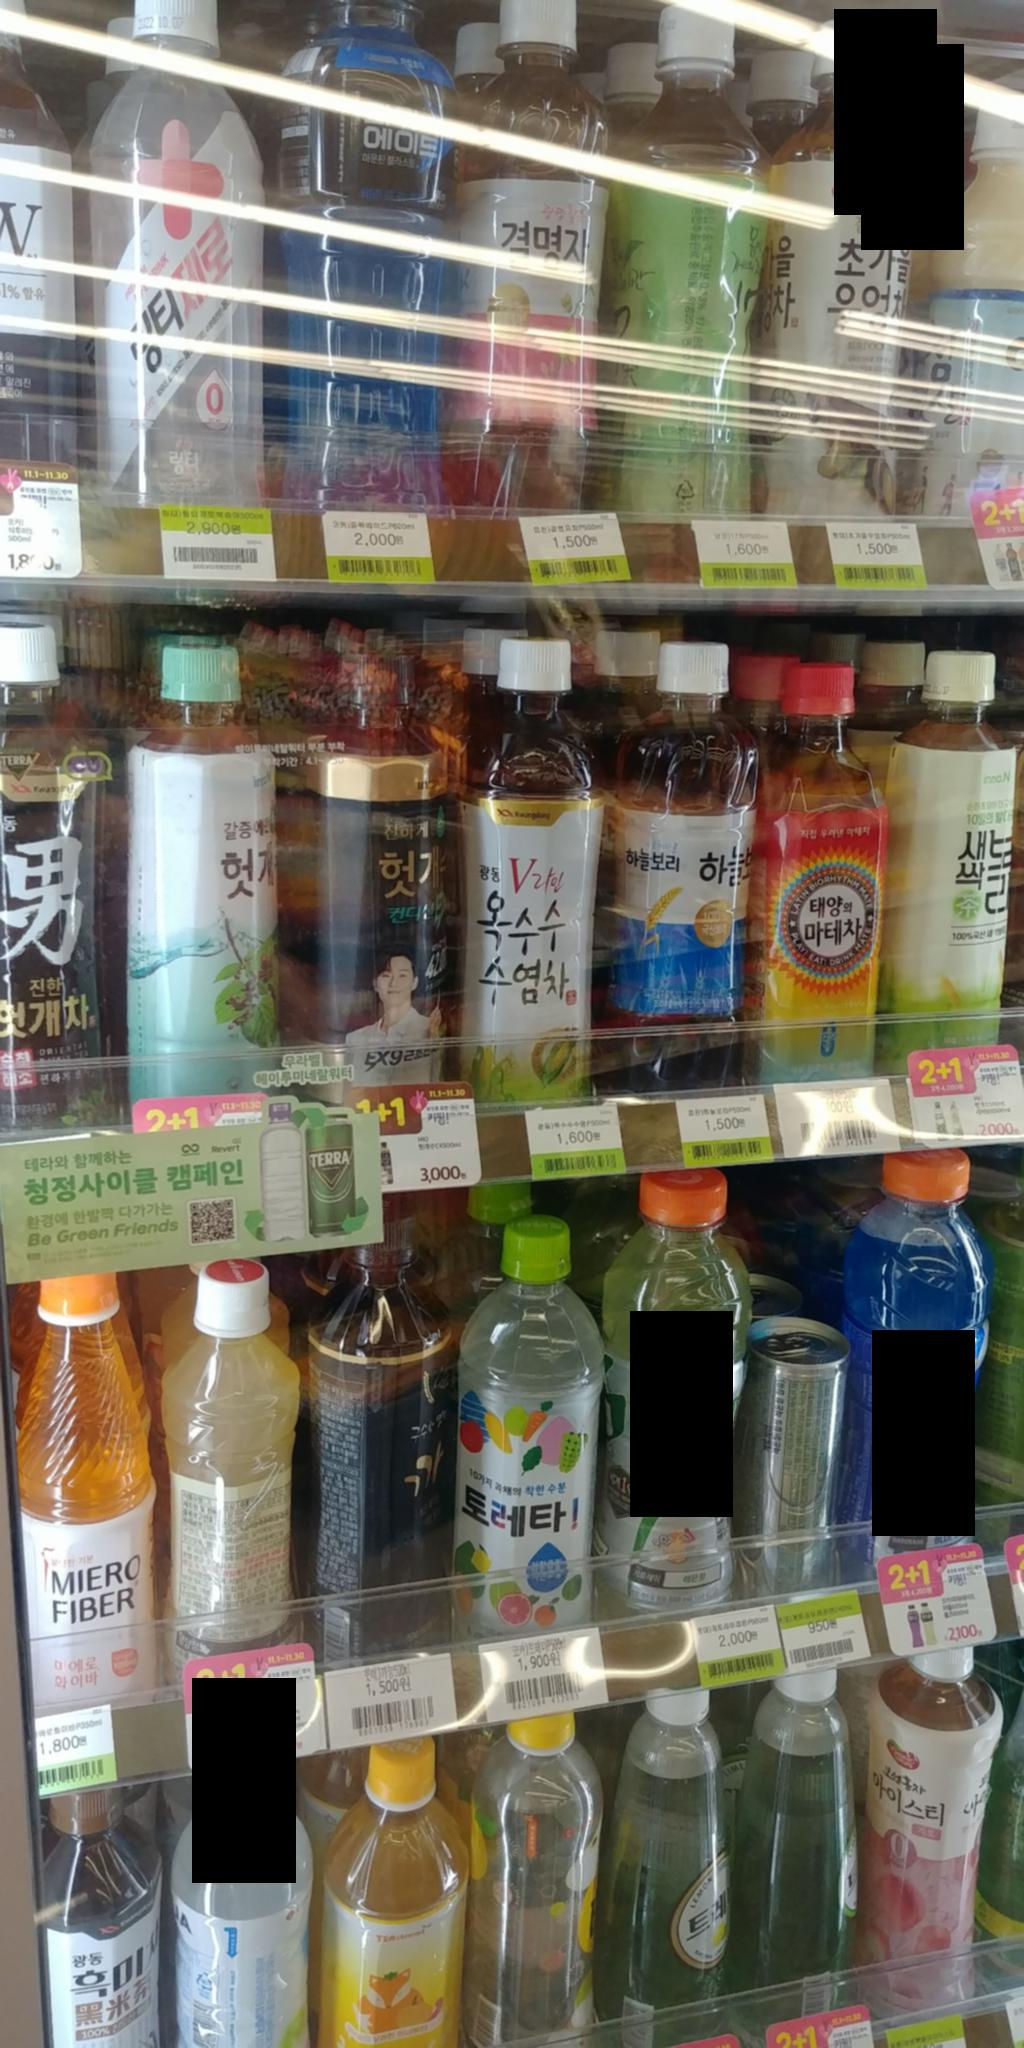haneulbori: (584, 647, 771, 1097)
heotgaecha: (589, 1159, 755, 1607), (0, 618, 125, 1144)
oksususuyeomcha: (444, 630, 613, 1106)
powerade_mountainblast: (273, 0, 465, 512)
toreta: (453, 1224, 602, 1648)
